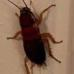cockroach: (18, 5, 48, 67)
